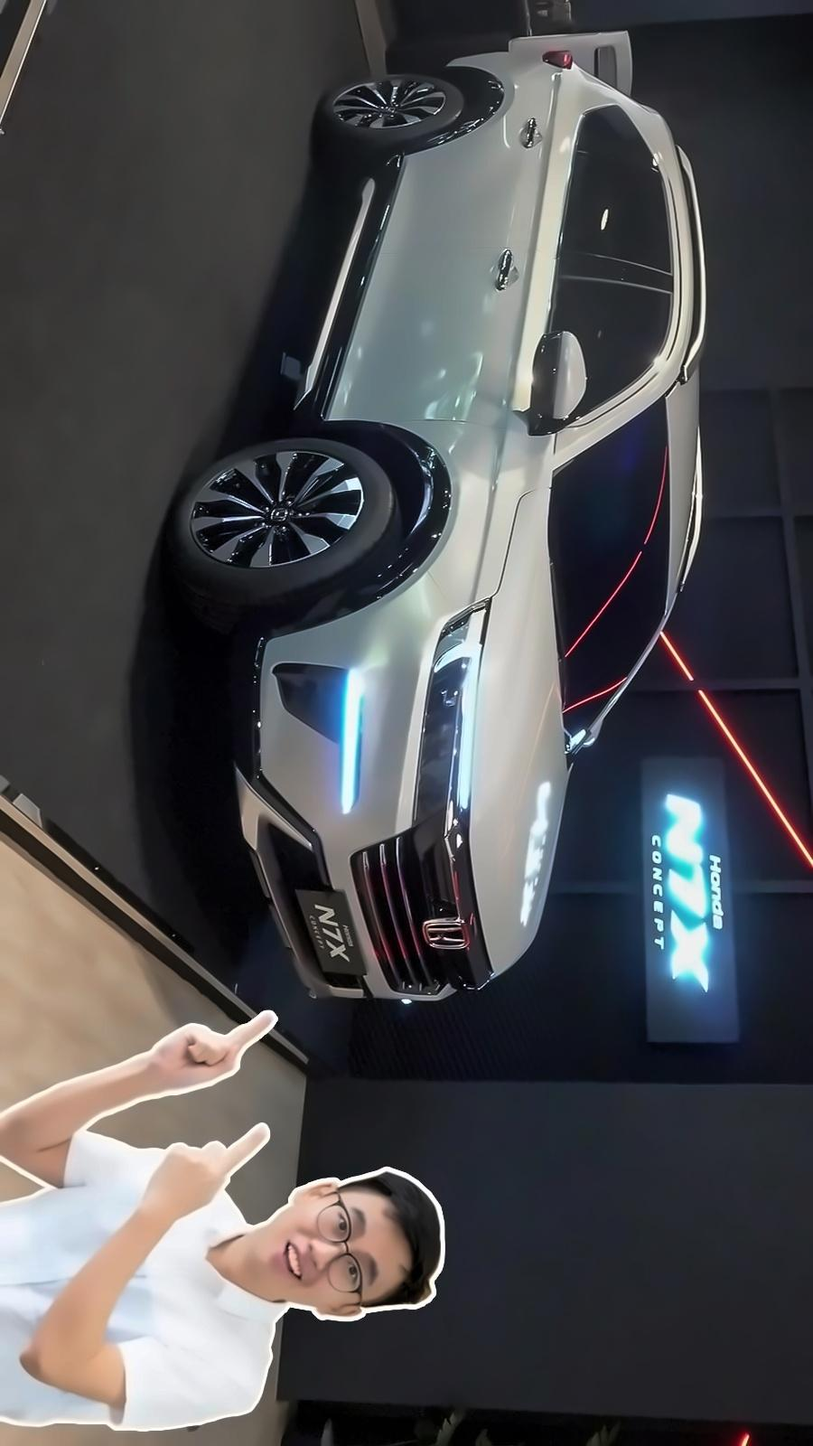Car hood: (459, 445, 571, 997)
Driver-s door - -F-R-: (242, 237, 717, 457)
Fender - -F-R-: (187, 422, 653, 650)
Front bumper: (170, 615, 430, 1018)
Headlight - -R-: (402, 597, 488, 853)
Passenger-s door - -R-R-: (298, 82, 738, 303)
Side bumper - -R-: (207, 138, 416, 433)
Side mirror - -R-: (508, 319, 591, 445)
